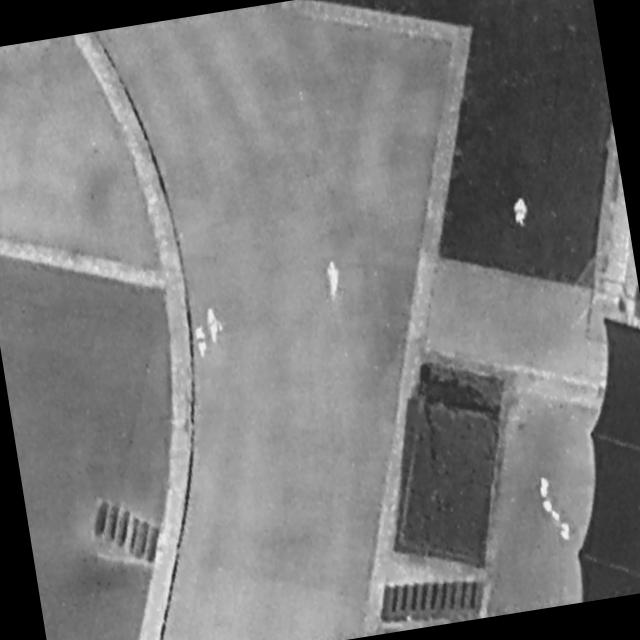person: (322, 256, 347, 306), (507, 192, 536, 234), (204, 308, 227, 349), (194, 327, 211, 361)
